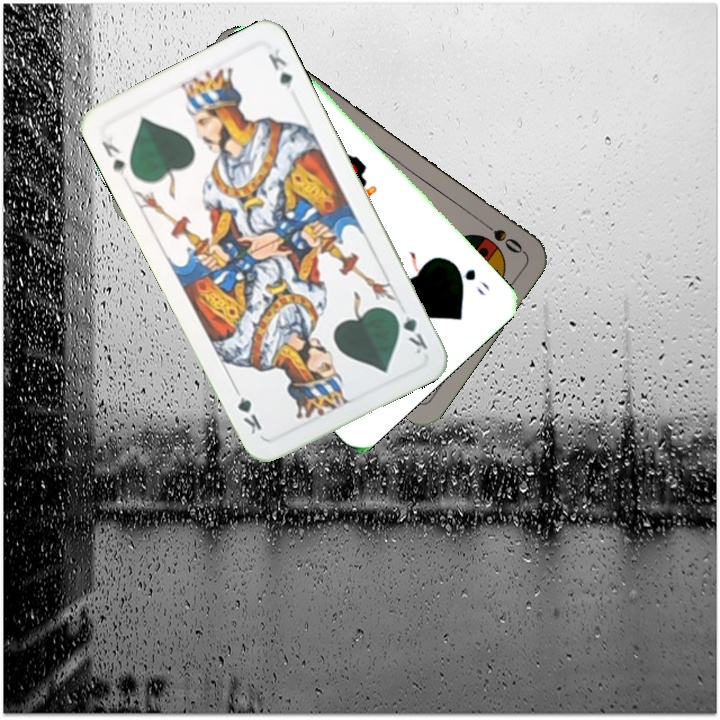GK: (389, 305, 431, 357), (97, 137, 129, 179)
GO: (447, 258, 493, 299)
SO: (475, 215, 526, 257)
